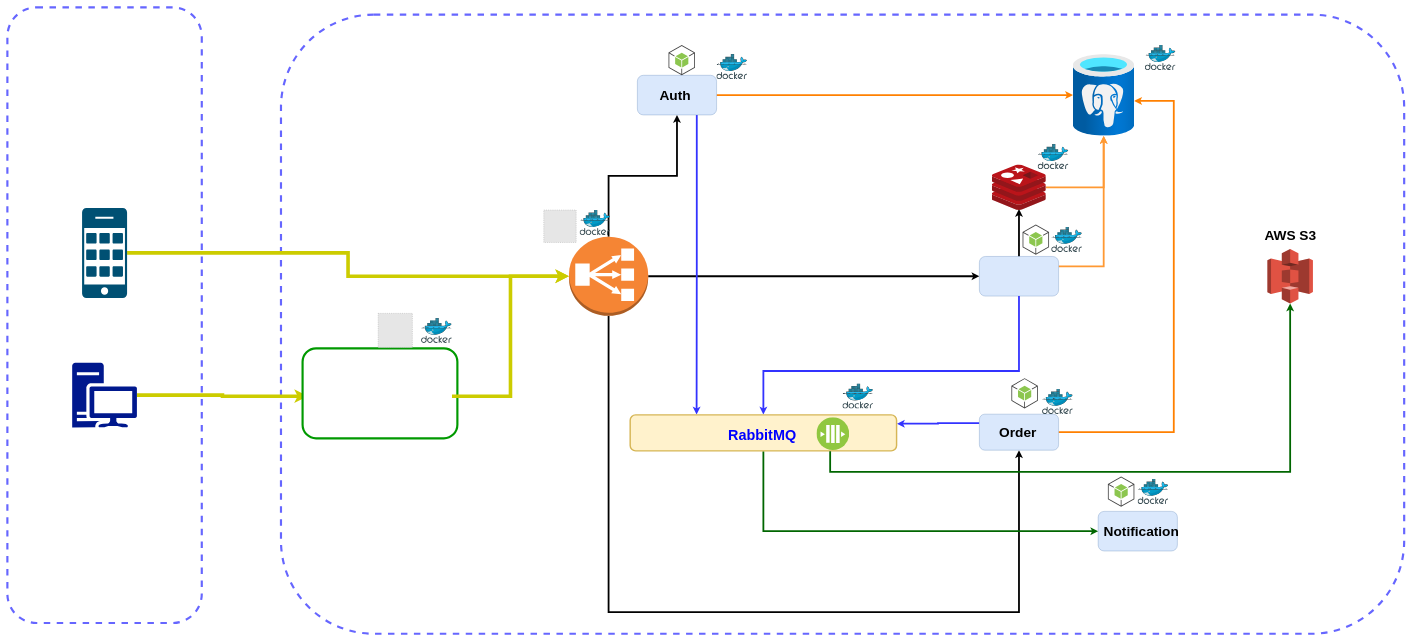
Image size: 1411x641. Some labels were removed from this diagram. Grey dashed boxes stand in for pictures. The shapes that lost their labels are listed below. From the top down, each one's box as (x1, y1, x2, y2) in pixels, then its label:
(979, 256, 1059, 296): Product
(301, 347, 458, 439): e-commerce website
